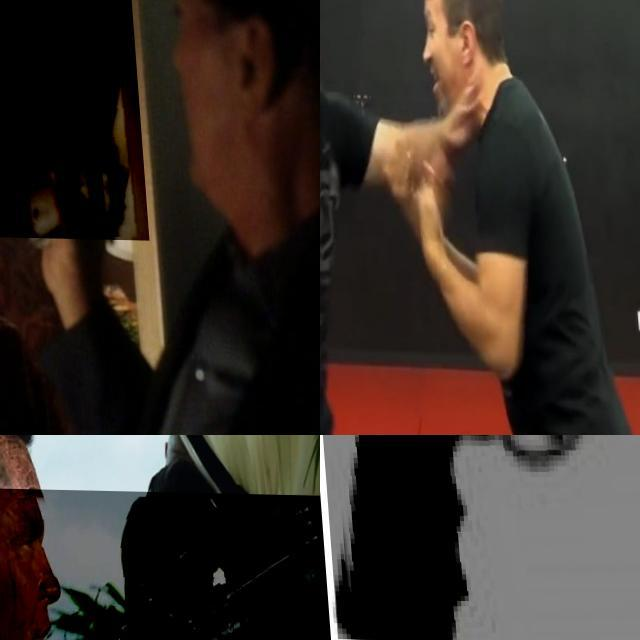gun-knife-thesis - v11 Yolov5 augmented: (320, 435, 640, 640), (0, 486, 320, 640), (0, 0, 144, 238)
